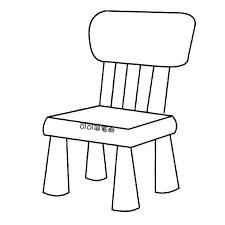chair: (30, 5, 195, 215)
